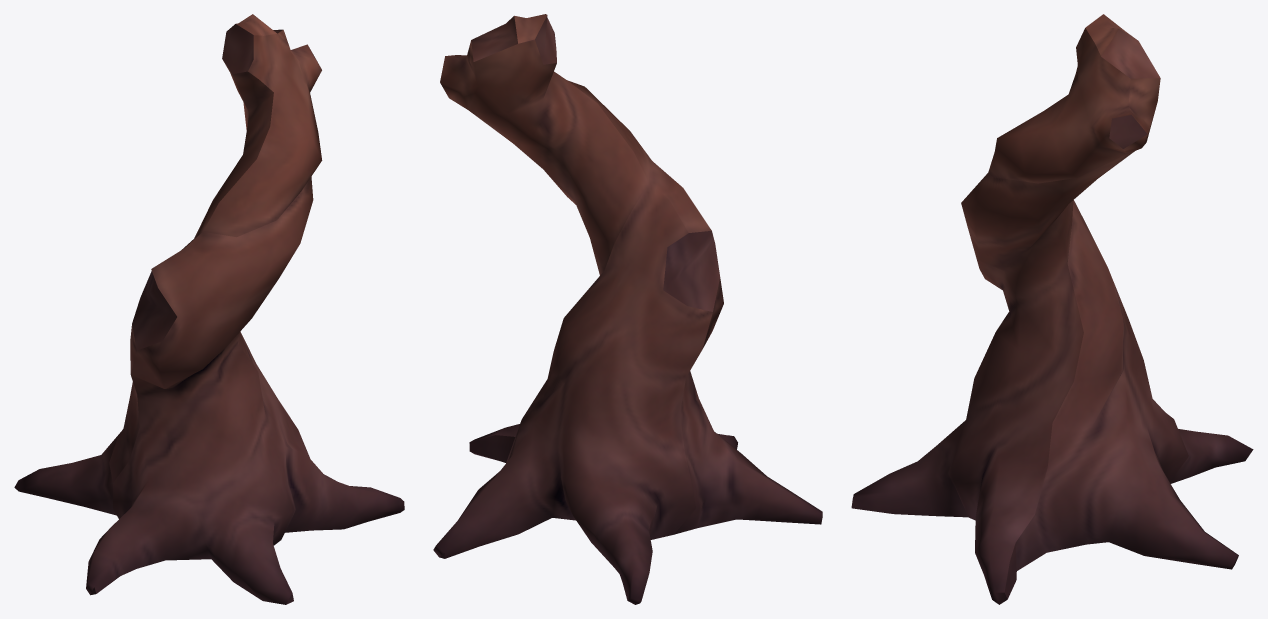
File: Tree_Base.glb
The picture shows the model from 3 angles, left to right: view 1: azimuth 30°, elevation 25°; view 2: azimuth 150°, elevation 25°; view 3: azimuth 270°, elevation 25°; orthographic projection. The views are drawn at different scales.
Visible parts, largest first — view 1: Tree_Base; view 2: Tree_Base; view 3: Tree_Base.
Part boxes in pixels (bbox=[...]): Tree_Base: bbox=[14, 14, 404, 604]; Tree_Base: bbox=[433, 14, 822, 604]; Tree_Base: bbox=[851, 14, 1253, 604].
Size of the model in its own units: 1.33 by 1.92 by 1.3.
Materials: 1 (1 with a texture image).
